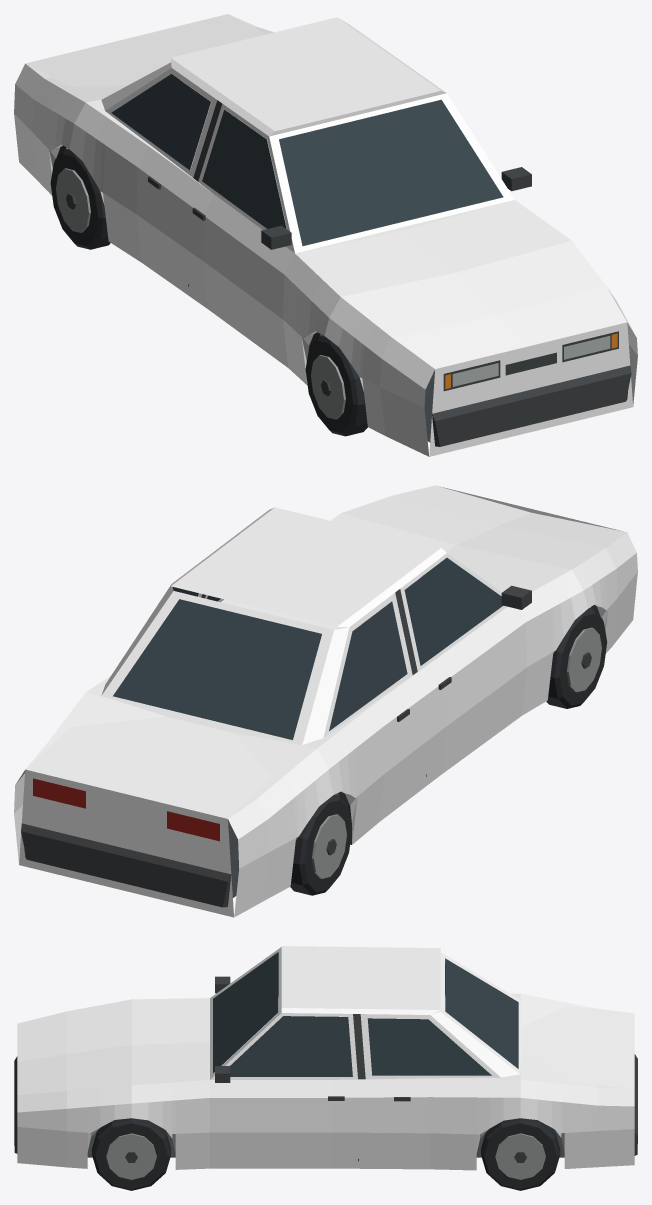
The model's file is hoshino_senko_s_98.glb.
The picture shows the model from 3 angles, top to bottom: view 1: azimuth 30°, elevation 25°; view 2: azimuth 150°, elevation 25°; view 3: azimuth 270°, elevation 25°; orthographic projection. The views are drawn at different scales.
Visible parts, largest first — view 1: hoshino_senko_s_98; view 2: hoshino_senko_s_98; view 3: hoshino_senko_s_98.
Boxes of the visible parts, <box> form: hoshino_senko_s_98: <box>14,14,637,456</box>; hoshino_senko_s_98: <box>14,485,637,917</box>; hoshino_senko_s_98: <box>14,946,637,1190</box>.
Bounding box in the file's own units: 1.82 × 1.45 × 4.89.
Materials: 8 (1 with a texture image).
